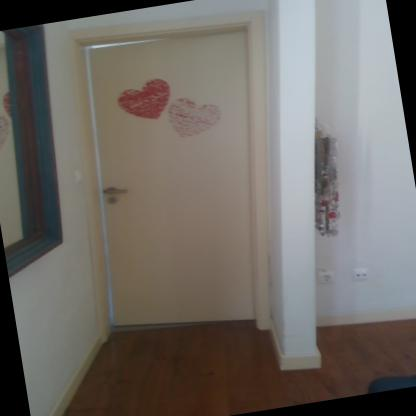closed: (48, 0, 319, 374)
